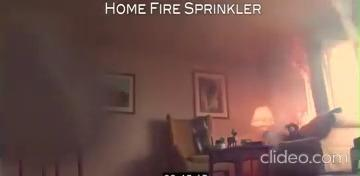fire: (284, 40, 317, 124)
